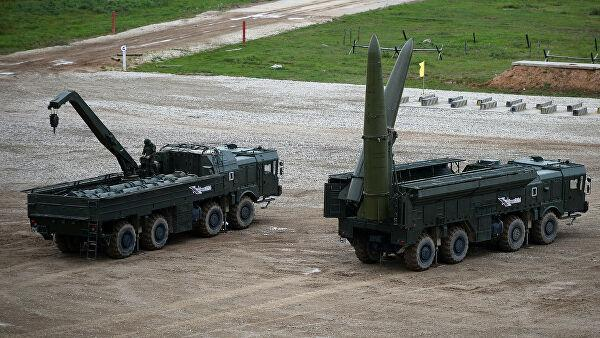rszo: (316, 144, 600, 278)
truck: (10, 131, 290, 260)
